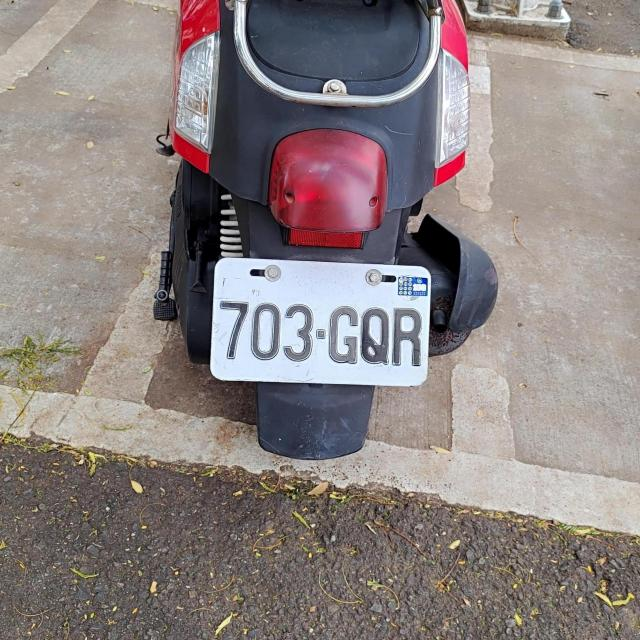W: (210, 257, 432, 385)
